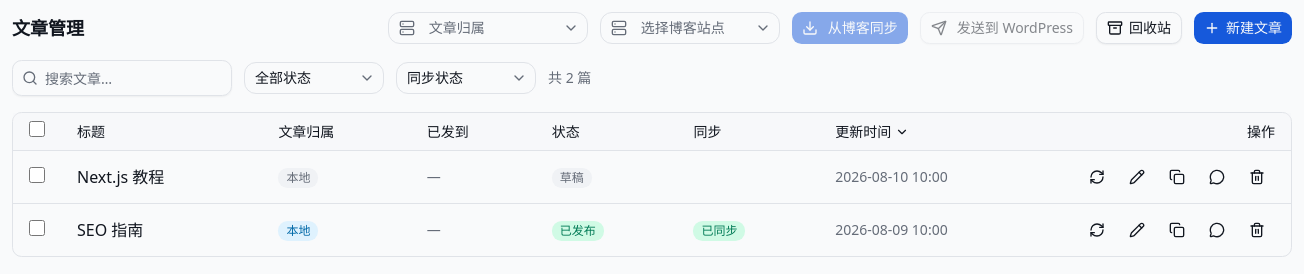
Test case: ArticlesClient › 搜索框按标题过滤列表
The image size is (1304, 274).
Check: the text "Next.js 教程" is shown, box [61, 150, 262, 204]
Step 1. Type "SEO" into the field with test id "search-input" → {"x": 122, "y": 78}, box [12, 60, 232, 96]
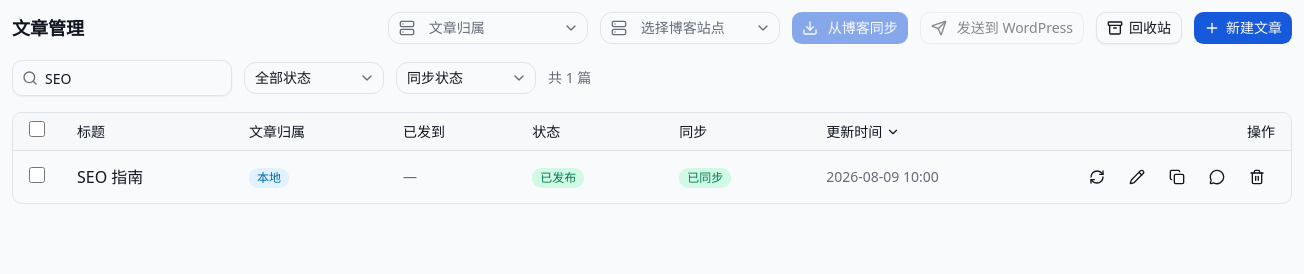
Check: the text "SEO 指南" is shown, box [61, 150, 233, 203]
Check: the text "Next.js 教程" is gone
Step 2. Replace the text in the field with test id "search-input" with "不存在的文章" → {"x": 122, "y": 78}, box [12, 60, 232, 96]
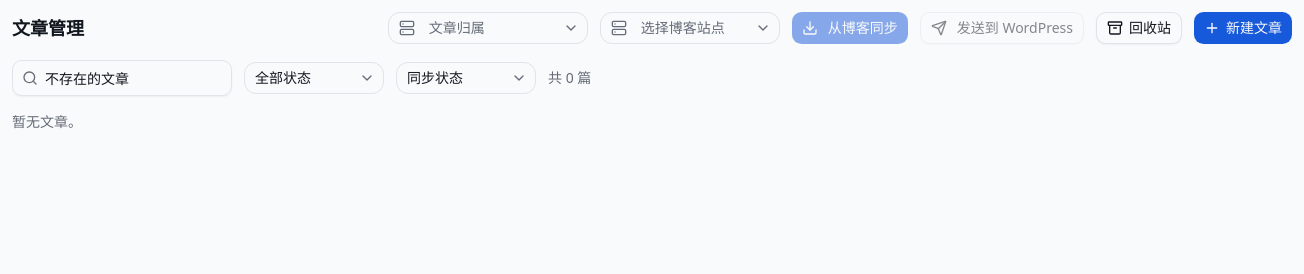
Check: the text "暂无文章。" is shown, box [12, 112, 82, 131]
